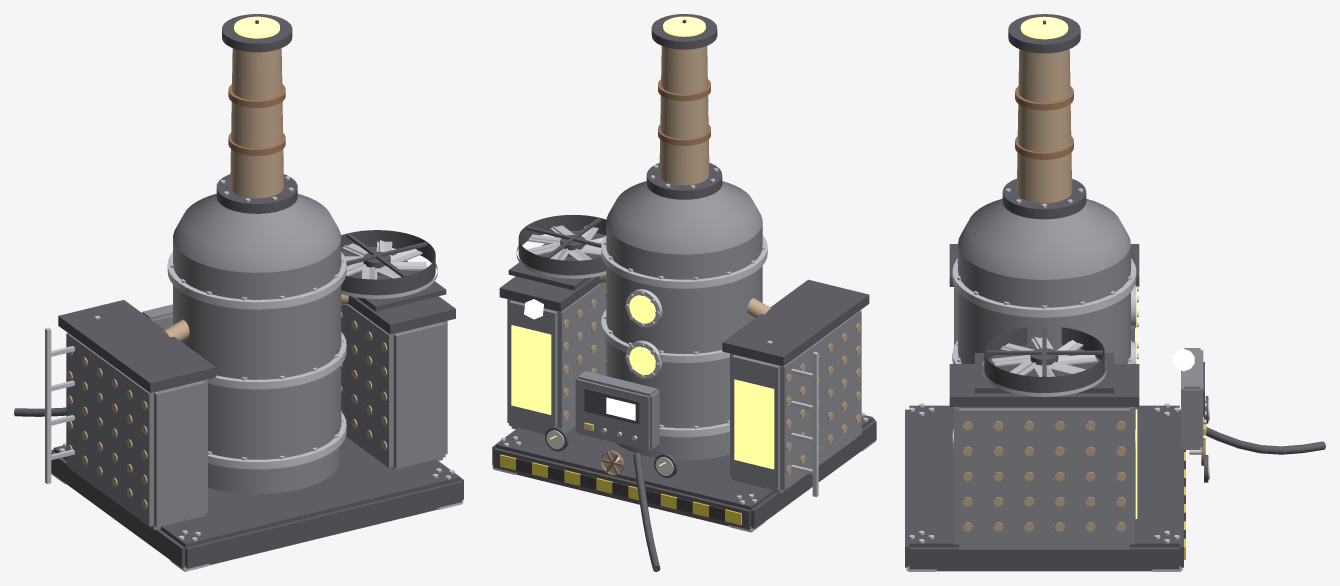
The model's file is heater_2.fbx.
3 renders of one model, left to right at view 1: azimuth 30°, elevation 25°; view 2: azimuth 150°, elevation 25°; view 3: azimuth 270°, elevation 25°, orthographic. The views are drawn at different scales.
Visible parts, largest first — view 1: heater_2, Spin_Y_Fan; view 2: heater_2, Spin_Y_Fan; view 3: heater_2, Spin_Y_Fan.
Part boxes in pixels (x1,y1,x2,y2): heater_2: [14, 14, 463, 571]; Spin_Y_Fan: [342, 240, 426, 279]; heater_2: [492, 14, 876, 571]; Spin_Y_Fan: [527, 225, 604, 260]; heater_2: [905, 14, 1325, 571]; Spin_Y_Fan: [991, 337, 1097, 376].
Bounding box in the file's own units: 2.98 × 3.81 × 3.02.
